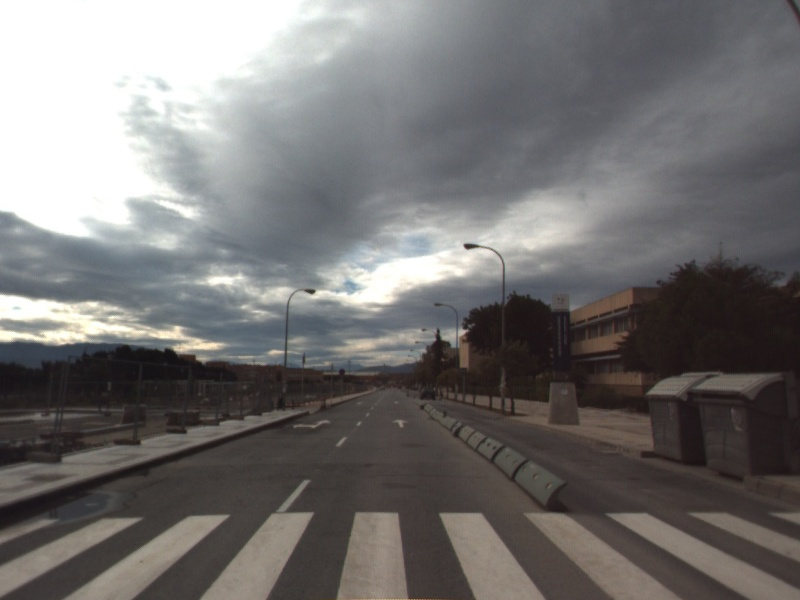STRAIGHT: (390, 417, 411, 429)
STRAIGHT_LEFT: (290, 417, 334, 431)
